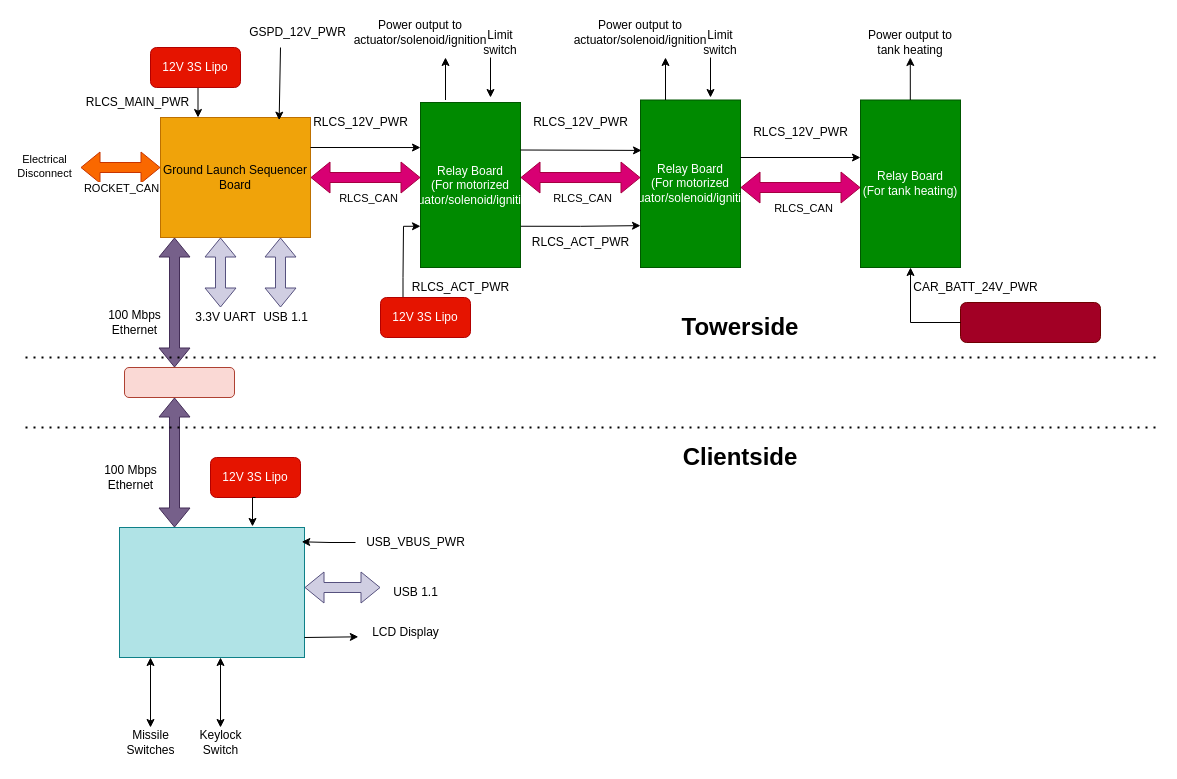
This 1177x779 diagram has some shape labels left out. The box of each missing label's shape, as (x1, y1, x2, y2) in pixels:
2x Car battery in series: (960, 302, 1100, 342)
Clientside Board: (118, 526, 304, 658)
Ethernet Switch: (124, 366, 234, 398)
